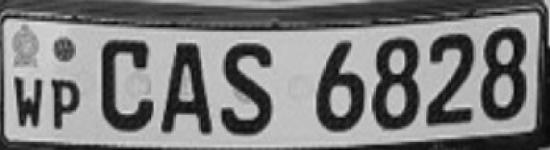6: (299, 33, 371, 141)
8: (367, 32, 422, 139), (424, 27, 479, 133), (481, 23, 529, 127)
C: (94, 32, 159, 134), (160, 37, 218, 144)
P: (50, 70, 84, 134)
S: (219, 40, 280, 146)
W: (13, 71, 47, 129)
